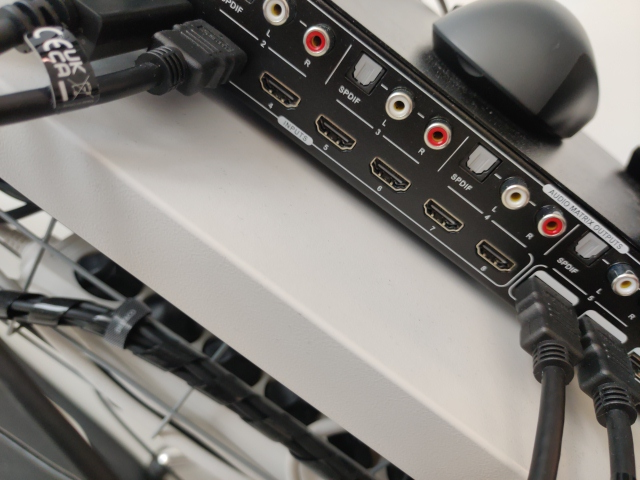3.5mm_audio: (385, 92, 414, 120), (538, 211, 566, 239), (303, 26, 330, 55), (424, 123, 451, 151), (502, 185, 531, 211), (262, 0, 290, 26), (613, 273, 640, 297)
HDMI: (259, 70, 301, 110), (314, 114, 357, 152), (369, 155, 411, 193), (423, 198, 465, 234), (476, 238, 517, 272)
